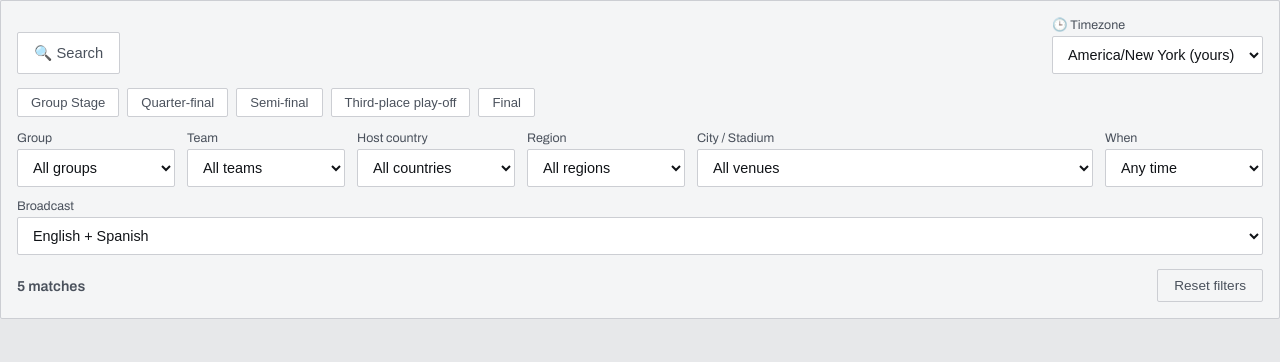
Test case: Filters › applies a search-example chip
Click the button "🔍 Search": (69, 53) 17,32 -> 120,74
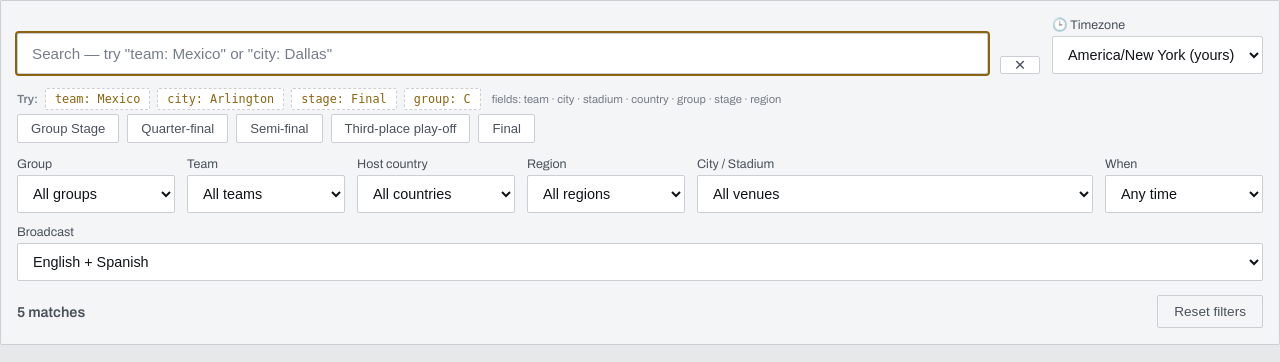
Click the button "city: Arlington": (221, 99) 157,88 -> 284,110
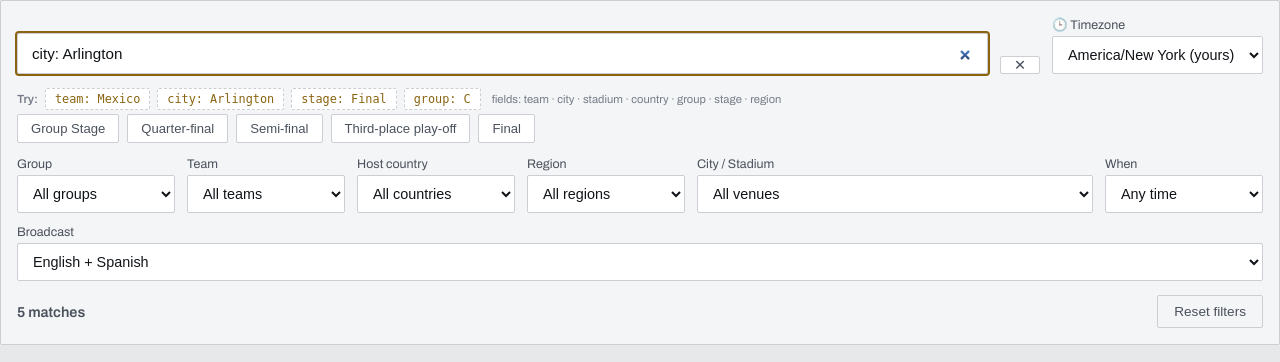
Result: the search field with placeholder "Search — try \"team: Mexico\" or \"city: Dallas\"" holds "city: Arlington" at 17,33 -> 988,74
